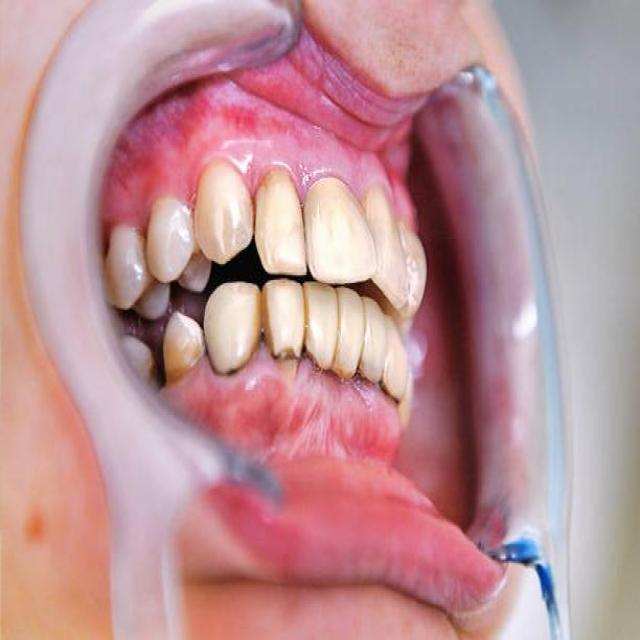caries: (268, 337, 299, 375), (303, 347, 330, 386), (355, 358, 380, 398), (331, 359, 358, 395), (376, 372, 401, 408), (218, 355, 244, 389)
